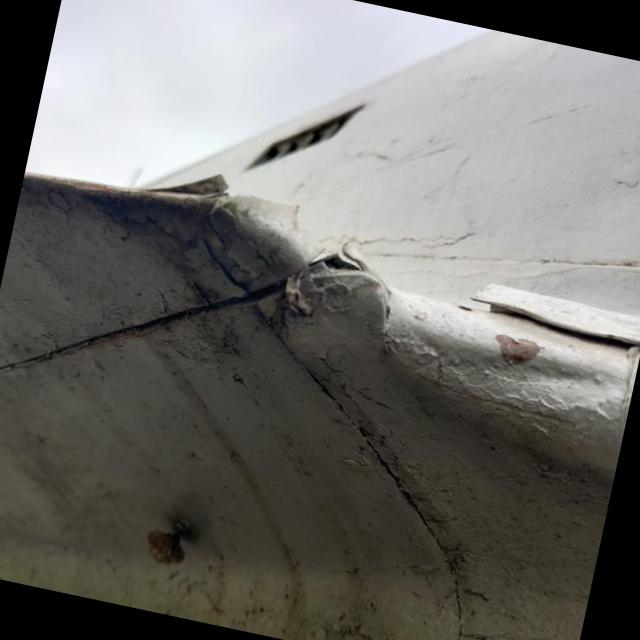Crack: (145, 174, 227, 197), (307, 242, 366, 271)
